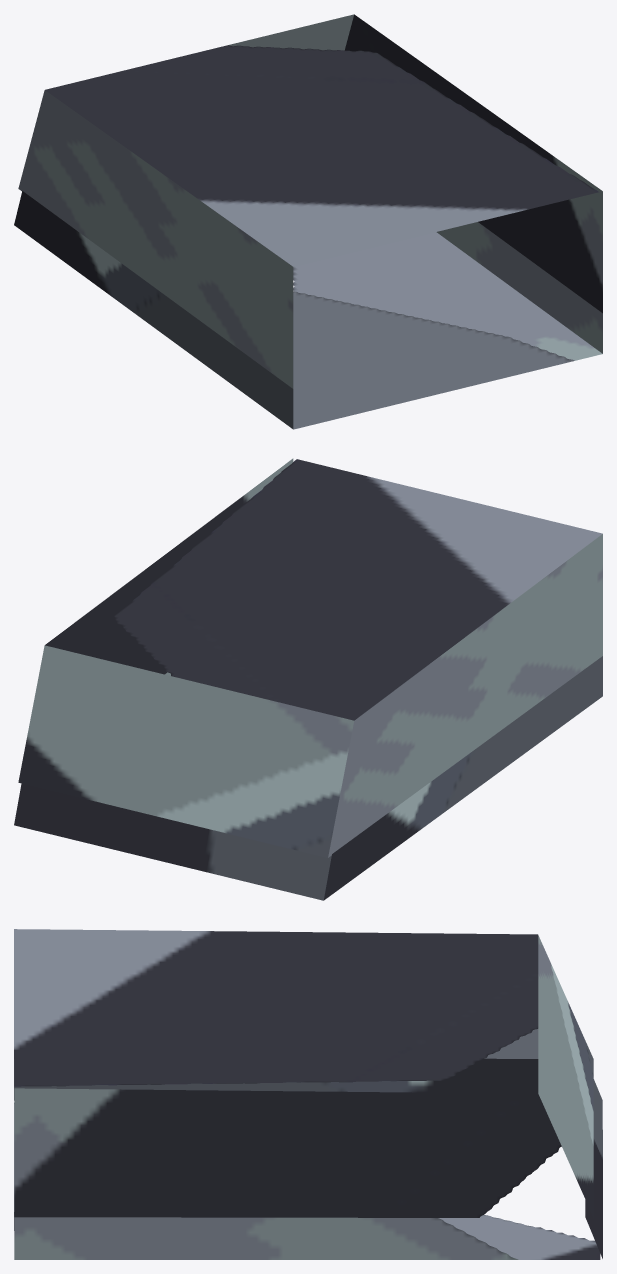
The model's file is ss8_carport.obj.
3 views of the same model, one above another, from view 1: azimuth 30°, elevation 25°; view 2: azimuth 150°, elevation 25°; view 3: azimuth 270°, elevation 25° (orthographic). The views are drawn at different scales.
Visible parts, largest first — view 1: cube_selection_selection_selection_selection_selection_selection; view 2: cube_selection_selection_selection_selection_selection_selection; view 3: cube_selection_selection_selection_selection_selection_selection.
Boxes of the visible parts, x1,y1,x2,y2 form: cube_selection_selection_selection_selection_selection_selection: [14, 14, 602, 429]; cube_selection_selection_selection_selection_selection_selection: [14, 458, 602, 900]; cube_selection_selection_selection_selection_selection_selection: [14, 929, 602, 1259].
Size of the model in its own units: 1 by 0.5022 by 1.56.
